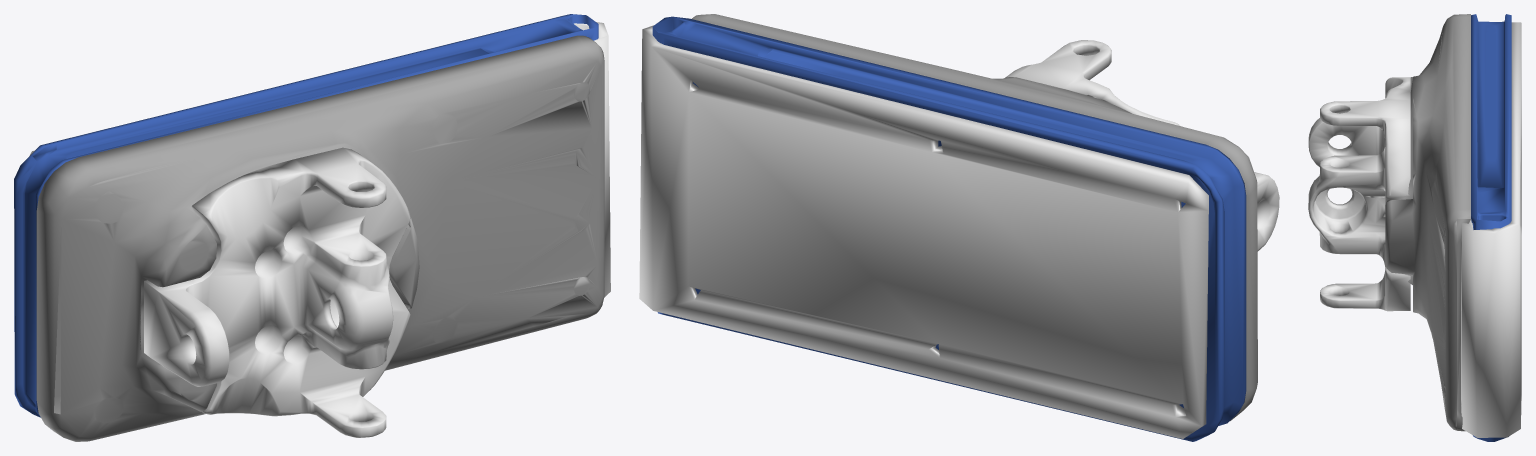
The model's file is Foot.obj.
The picture shows the model from 3 angles, left to right: view 1: azimuth 30°, elevation 25°; view 2: azimuth 150°, elevation 25°; view 3: azimuth 270°, elevation 25°; orthographic projection. The views are drawn at different scales.
Visible parts, largest first — view 1: Foot_Material__31, Foot_Material__29.001, Foot_Material__28; view 2: Foot_Material__29.001, Foot_Material__28, Foot_Material__31; view 3: Foot_Material__29.001, Foot_Material__31, Foot_Material__28.
Part boxes in pixels (box(x1,y1,x2,y2)): Foot_Material__31: box(36, 35, 604, 441); Foot_Material__29.001: box(29, 22, 610, 437); Foot_Material__28: box(14, 14, 598, 417); Foot_Material__29.001: box(639, 25, 1279, 438); Foot_Material__28: box(652, 16, 1246, 441); Foot_Material__31: box(692, 14, 1257, 420); Foot_Material__29.001: box(1308, 22, 1521, 437); Foot_Material__31: box(1385, 14, 1470, 431); Foot_Material__28: box(1471, 14, 1511, 441).
Bounding box in the file's own units: 0.2115 × 0.096 × 0.0845.
